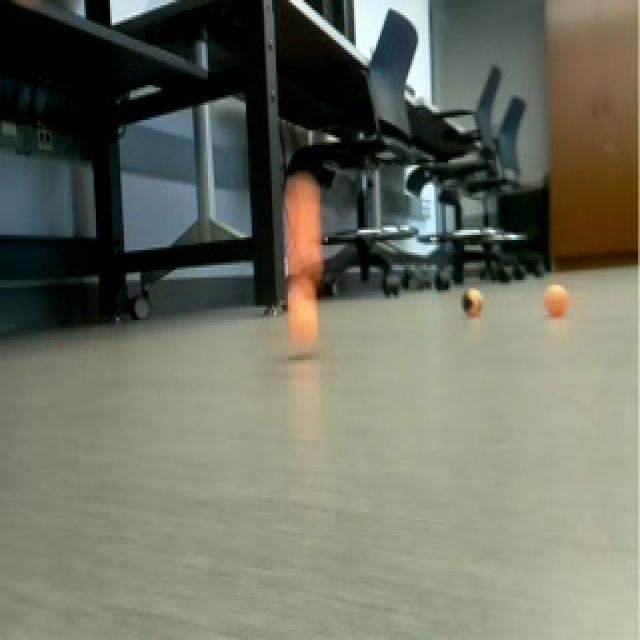oball: (284, 290, 328, 356), (544, 278, 574, 322)
